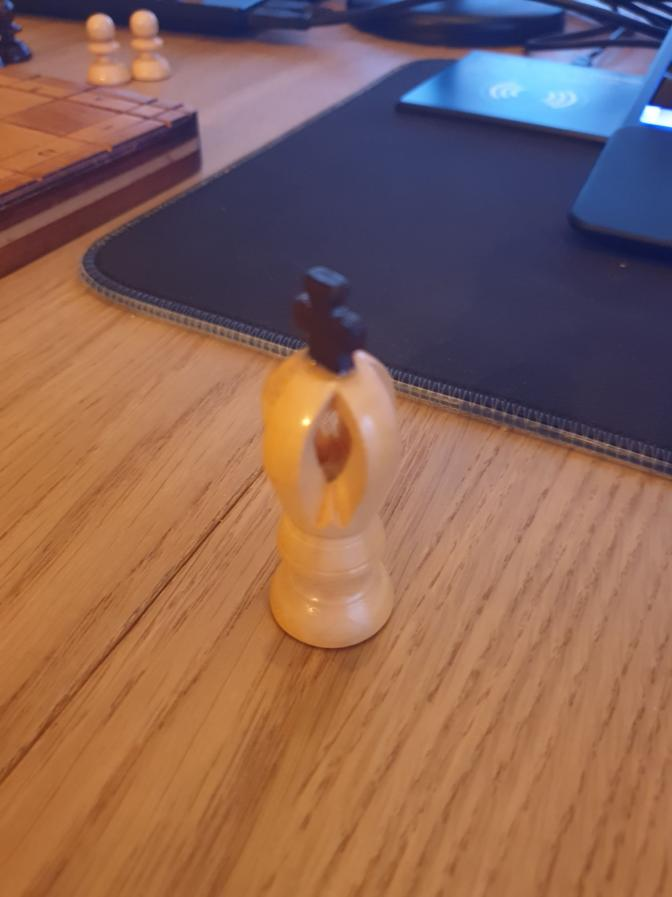wking: (260, 262, 403, 653)
